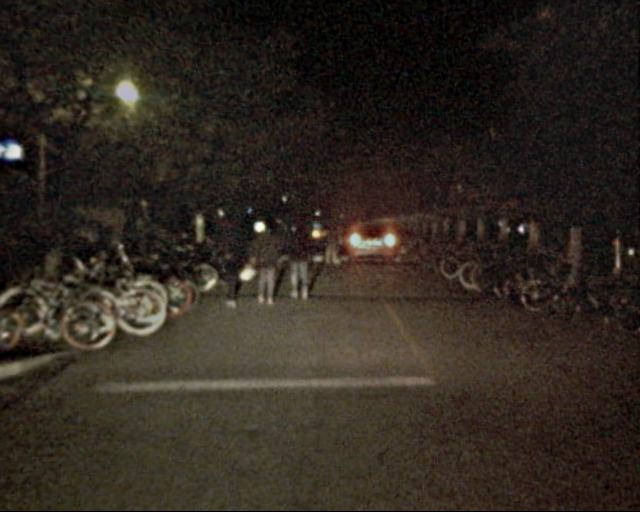person: (216, 214, 249, 309), (252, 221, 280, 308), (289, 214, 314, 301), (324, 221, 342, 266)
